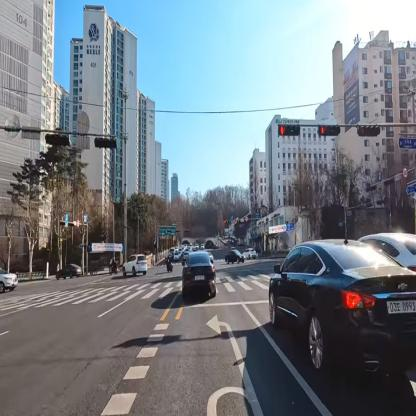red: (278, 123, 300, 138), (317, 125, 340, 138)
